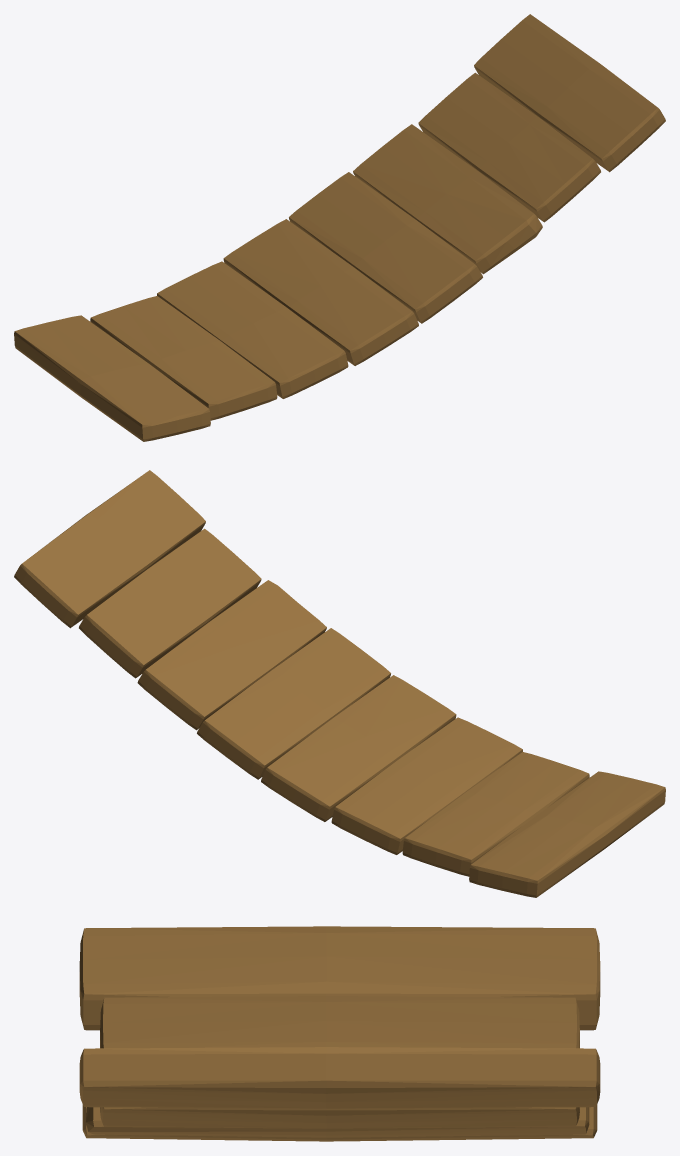
Rendered from Ramp.glb.
3 renders of one model, top to bottom at view 1: azimuth 30°, elevation 25°; view 2: azimuth 150°, elevation 25°; view 3: azimuth 270°, elevation 25°, orthographic. The views are drawn at different scales.
Parts seen in each view (by area): view 1: Bridge_Small; view 2: Bridge_Small; view 3: Bridge_Small.
Part boxes in pixels (box(x1,y1,x2,y2)): Bridge_Small: box(14, 14, 665, 441); Bridge_Small: box(14, 470, 665, 897); Bridge_Small: box(79, 926, 600, 1141).
Size of the model in its own units: 6.16 by 2.37 by 2.64.
